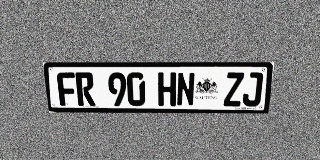0: (126, 72, 145, 106)
9: (108, 72, 127, 106)
F: (56, 72, 77, 106)
H: (158, 72, 176, 106)
J: (242, 72, 263, 106)
N: (176, 72, 195, 106)
R: (75, 72, 96, 106)
Z: (223, 72, 244, 106)
